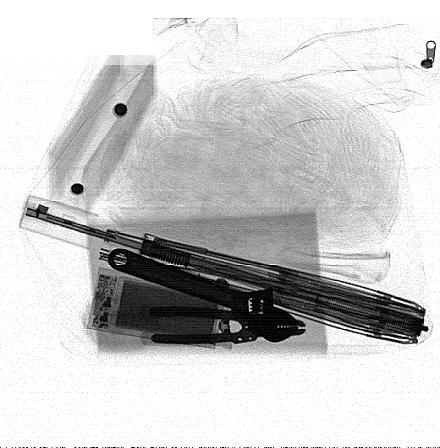Pliers: (146, 306, 308, 345)
Powerbank: (87, 266, 227, 349)
Wrench: (109, 249, 299, 342)
